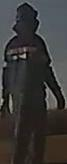gloves: (50, 90, 67, 111), (0, 97, 12, 118)
vest: (5, 34, 49, 109)
